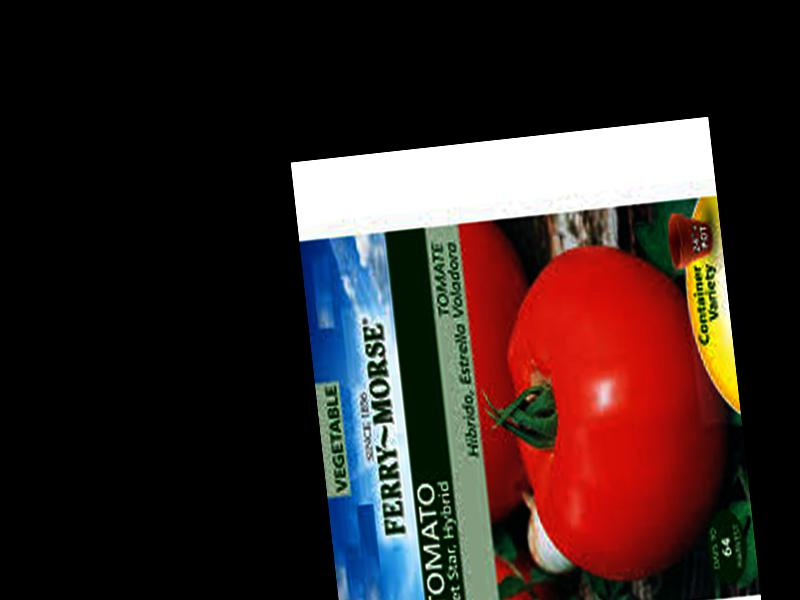Tomato: (497, 236, 743, 591)
